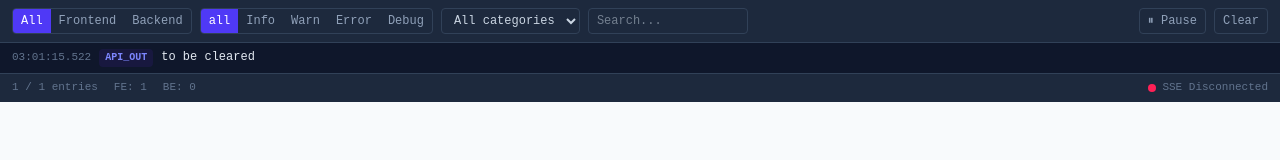
it: DevLogs page › clears logs on Clear button click
The image size is (1280, 160).
Expected: the text "to be cleared" is shown, [161,49,255,66]
Click the button "Clear": (1241, 21) [1214,8,1268,34]
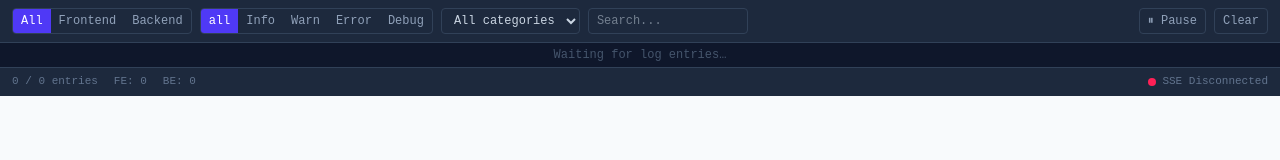
Expected: the text "to be cleared" is gone
